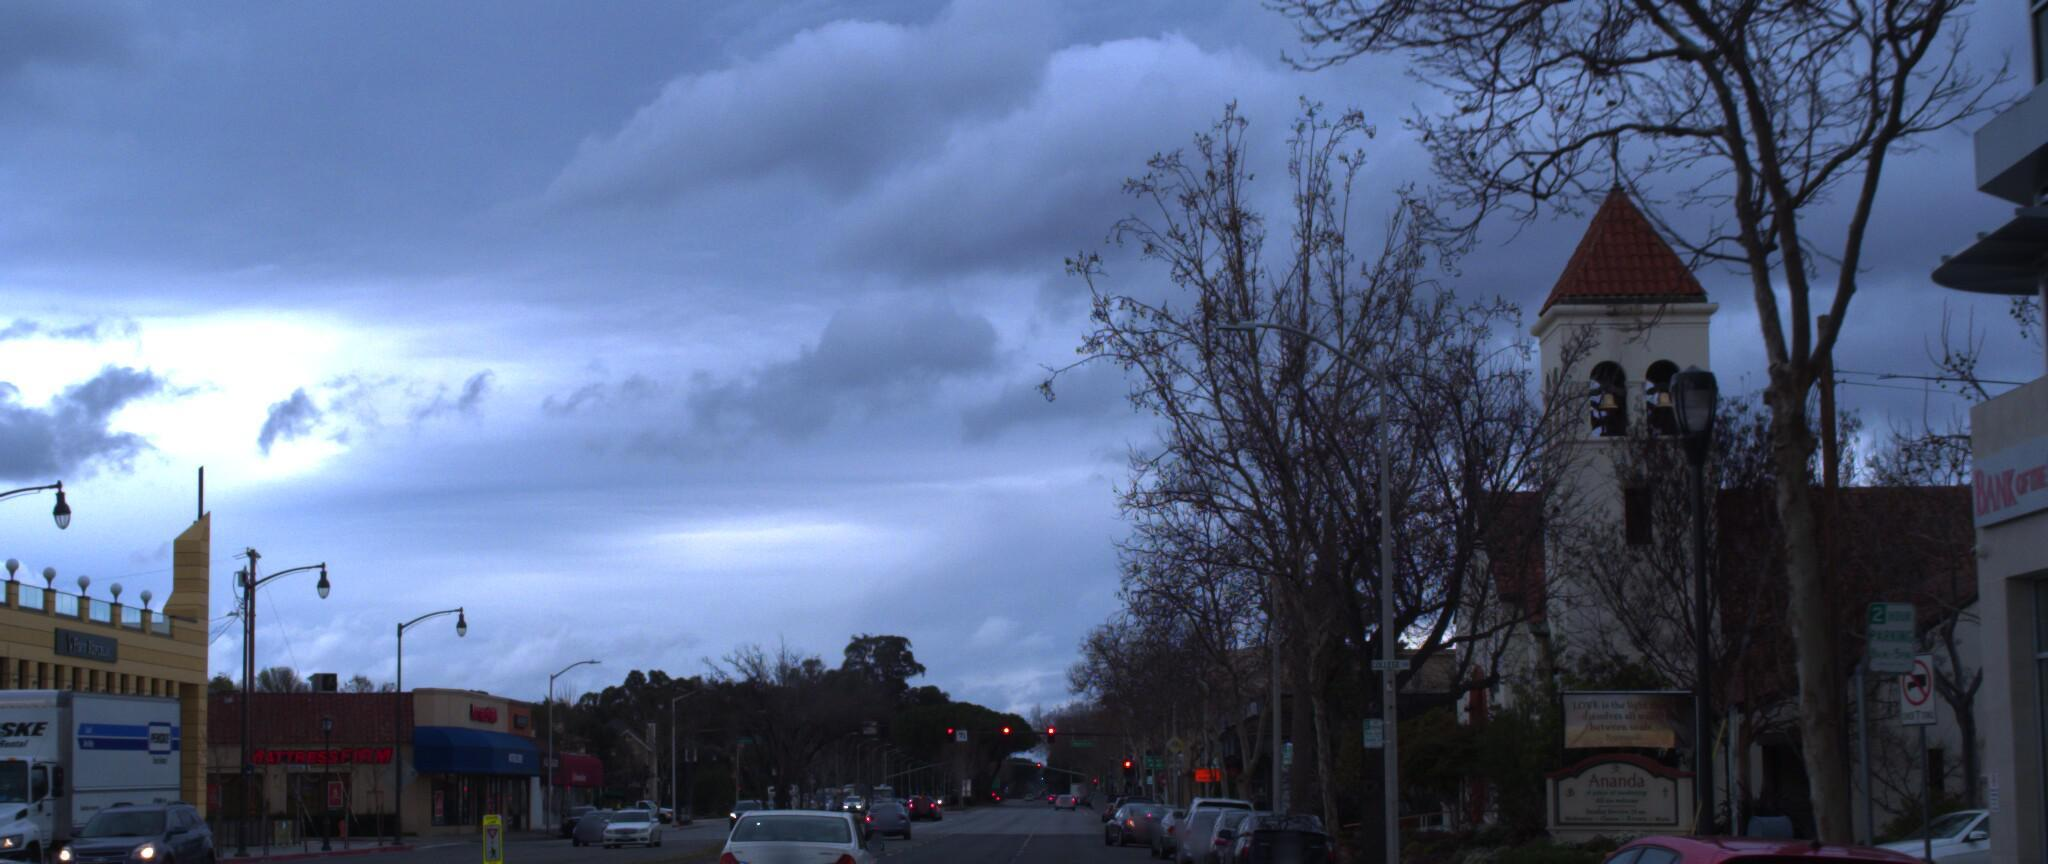car: (0, 794, 404, 864), (1454, 821, 2048, 864), (1785, 794, 2048, 864), (679, 787, 886, 864), (27, 801, 231, 864), (1162, 787, 1268, 864), (1212, 801, 1334, 864)
truck: (0, 666, 206, 864)
